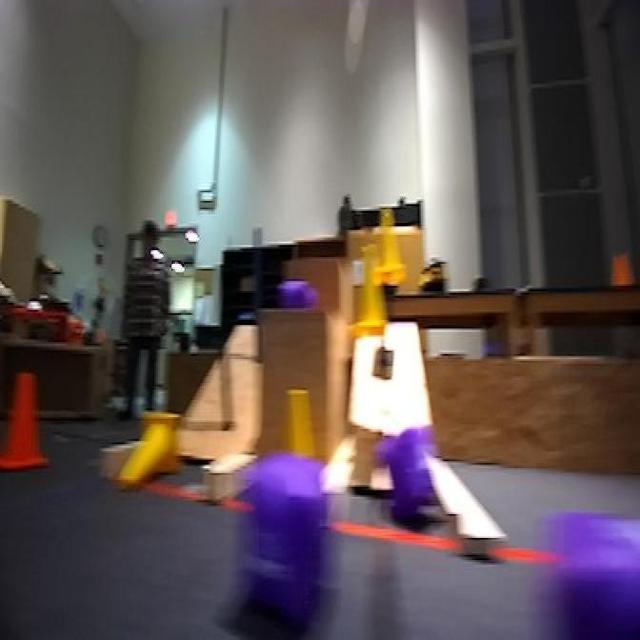frc_cone: (113, 410, 181, 492), (270, 385, 316, 490), (339, 237, 380, 342), (372, 208, 406, 286)
frc_cube: (534, 502, 640, 640), (245, 463, 334, 597), (362, 412, 444, 548), (269, 271, 321, 315)
